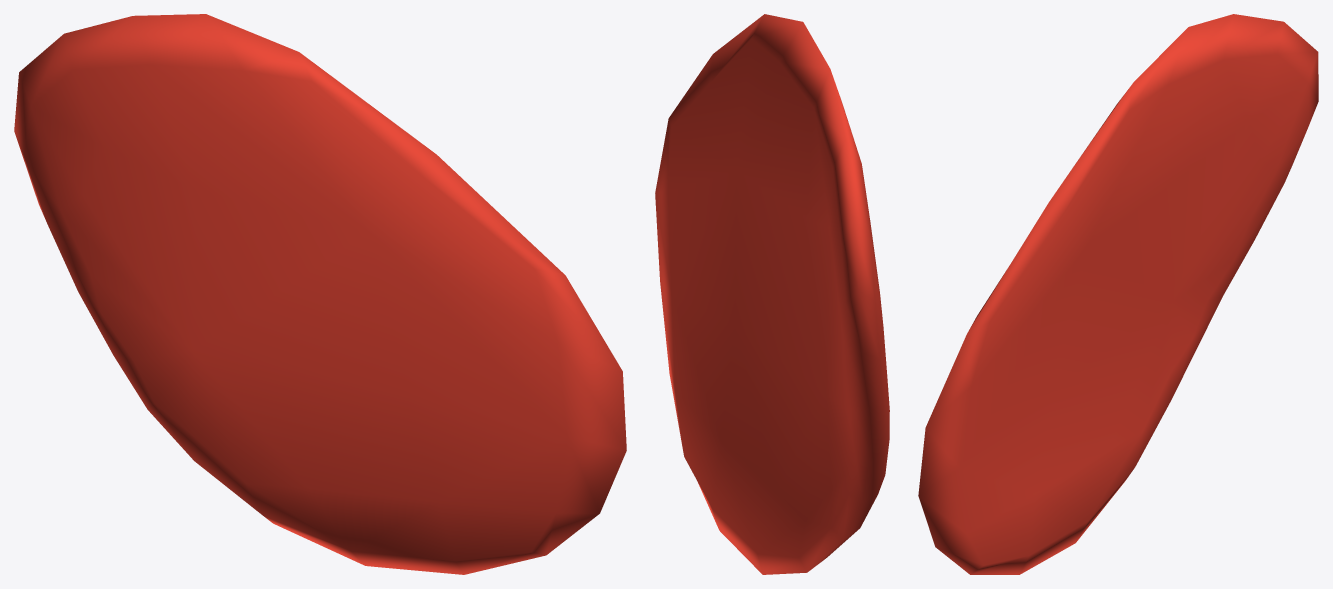
The model's file is Zygomaticus_minor_muscle_on_zygomatic_bone.r_Generated_Mesh_Fro.glb.
3 renders of one model, left to right at view 1: azimuth 30°, elevation 25°; view 2: azimuth 150°, elevation 25°; view 3: azimuth 270°, elevation 25°, orthographic. The views are drawn at different scales.
Visible parts, largest first — view 1: Zygomaticus_minor_muscle_on_zygomatic_bone.r_Generated_Mesh_; view 2: Zygomaticus_minor_muscle_on_zygomatic_bone.r_Generated_Mesh_; view 3: Zygomaticus_minor_muscle_on_zygomatic_bone.r_Generated_Mesh_.
Part boxes in pixels (left/top/right/bottom): Zygomaticus_minor_muscle_on_zygomatic_bone.r_Generated_Mesh_: left=14, top=14, right=626, bottom=574; Zygomaticus_minor_muscle_on_zygomatic_bone.r_Generated_Mesh_: left=655, top=14, right=889, bottom=574; Zygomaticus_minor_muscle_on_zygomatic_bone.r_Generated_Mesh_: left=918, top=14, right=1318, bottom=574.
Size of the model in its own units: 0.0061 by 0.00793 by 0.00604.
